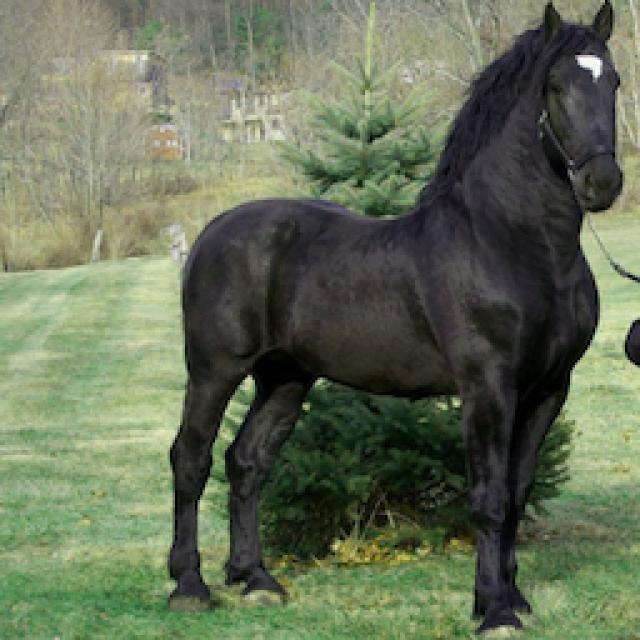Horse: (150, 0, 640, 638)
